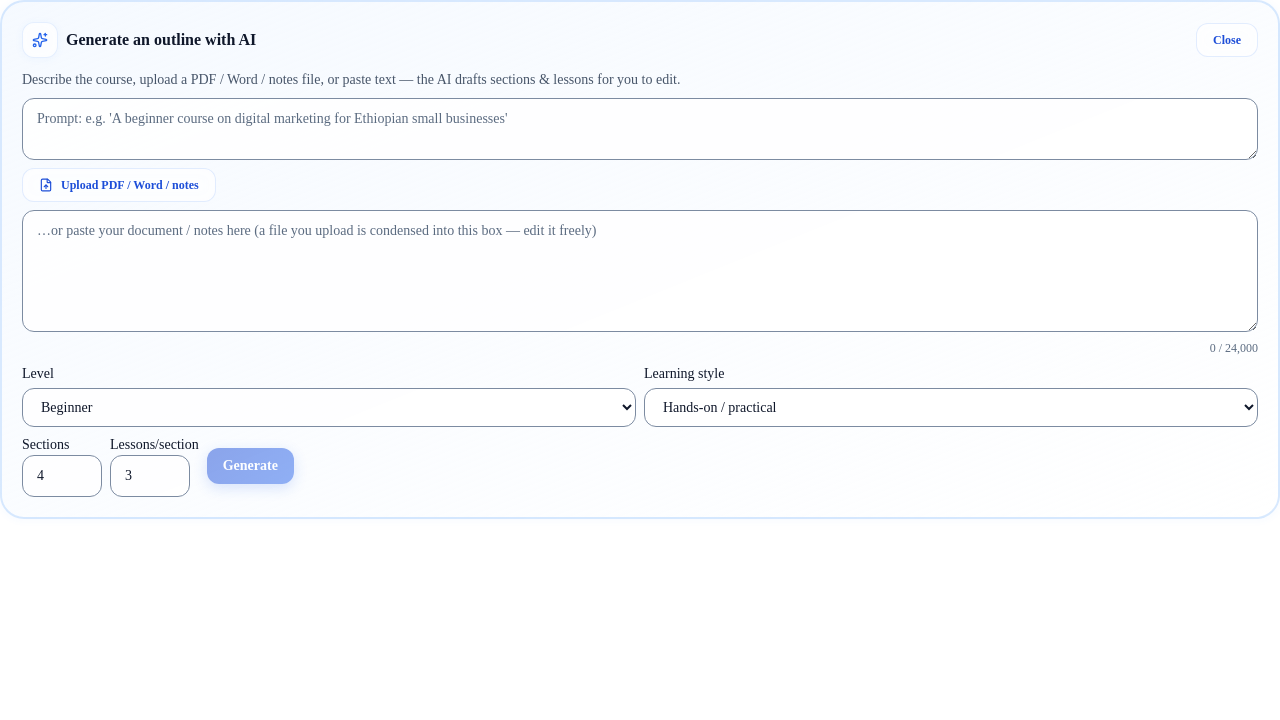
it: <StructureGenerator /> generate and apply › does not claim the document’s headings for a generic placeholder outline
The image size is (1280, 720).
Replace the text in the text box with placeholder "paste your document" with "Some unstructured notes about soil." at [640, 271], box [22,210,1258,332]
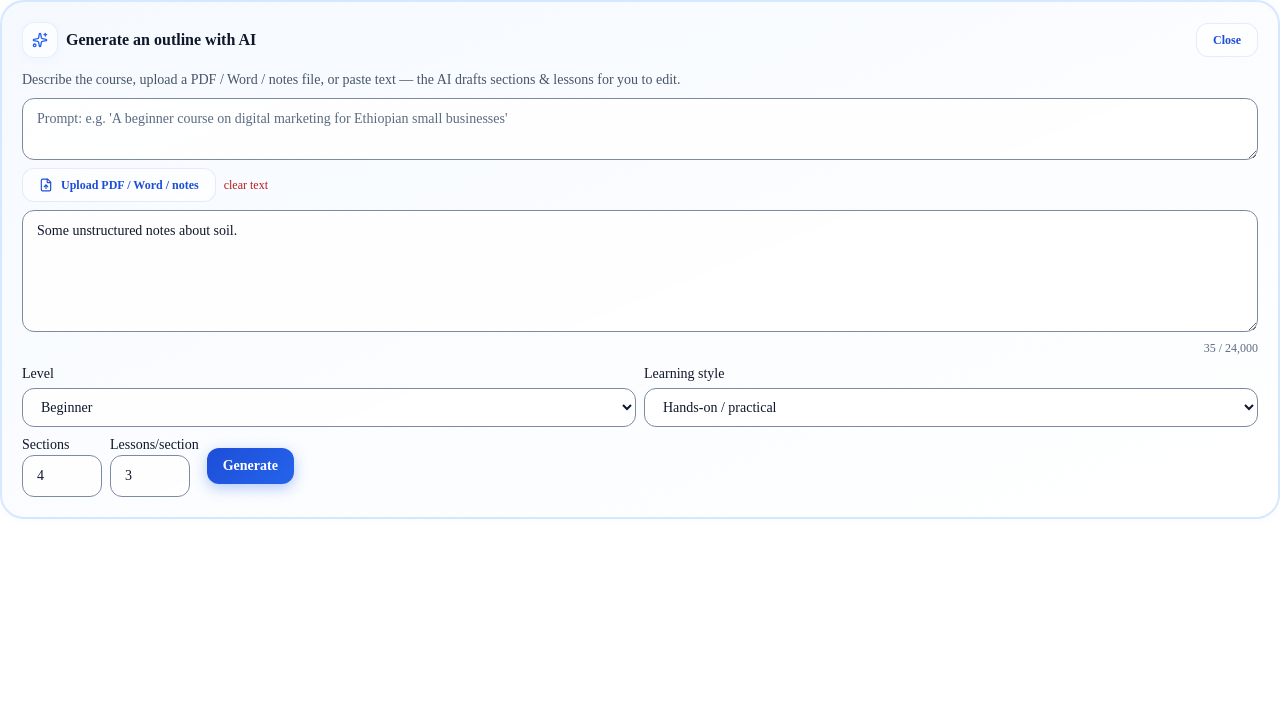
Click the button "Generate".
click(250, 466)  # box [207,448,294,484]
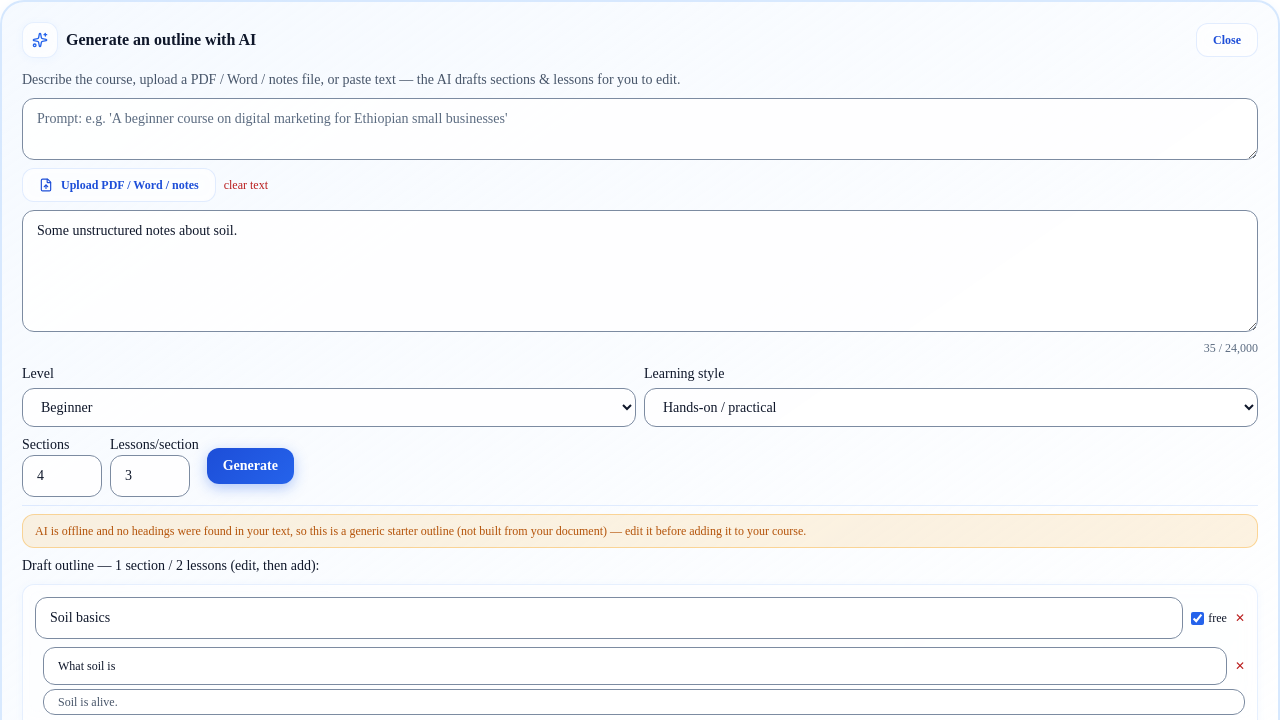
Result: the text "no headings were found in your text, so this is a generic starter outline" is shown at [35,524,806,538]
